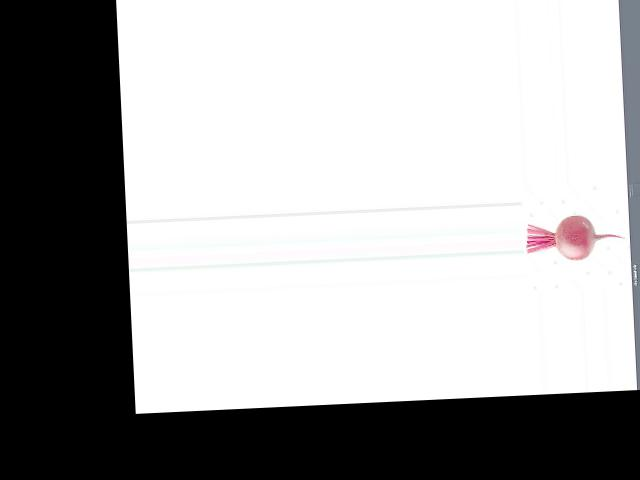beet: (524, 212, 628, 262)
